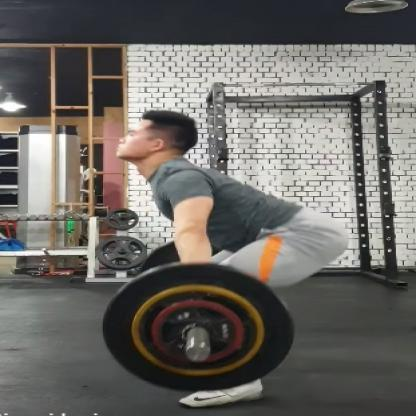barbell: (101, 239, 296, 393)
